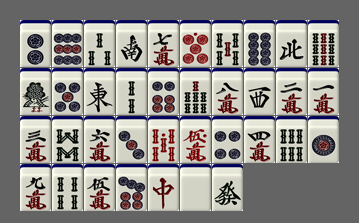0m: (180, 116, 211, 163)
0p: (180, 20, 211, 67)
0s: (148, 116, 179, 163)
1m: (308, 68, 339, 115)
1p: (308, 116, 339, 163)
1s: (20, 68, 51, 115)
1z: (84, 68, 115, 115)
2m: (276, 68, 307, 115)
2p: (20, 20, 51, 67)
2s: (116, 68, 147, 115)
2z: (116, 20, 147, 67)
3m: (20, 116, 51, 163)
3p: (116, 116, 147, 163)
3s: (84, 20, 115, 67)
3z: (244, 68, 275, 115)
4m: (244, 116, 275, 163)
4p: (212, 116, 243, 163)
4s: (52, 164, 83, 211)
4z: (276, 20, 307, 67)
5m: (84, 164, 115, 211)
5p: (52, 68, 83, 115)
5s: (212, 20, 243, 67)
5z: (180, 164, 211, 211)
6m: (84, 116, 115, 163)
6p: (148, 68, 179, 115)
6s: (276, 116, 307, 163)
6z: (212, 164, 243, 211)
7m: (148, 20, 179, 67)
7p: (116, 164, 147, 211)
7s: (180, 68, 211, 115)
7z: (148, 164, 179, 211)
8m: (212, 68, 243, 115)
8p: (244, 20, 275, 67)
8s: (52, 116, 83, 163)
9m: (20, 164, 51, 211)
9p: (52, 20, 83, 67)
9s: (308, 20, 339, 67)
